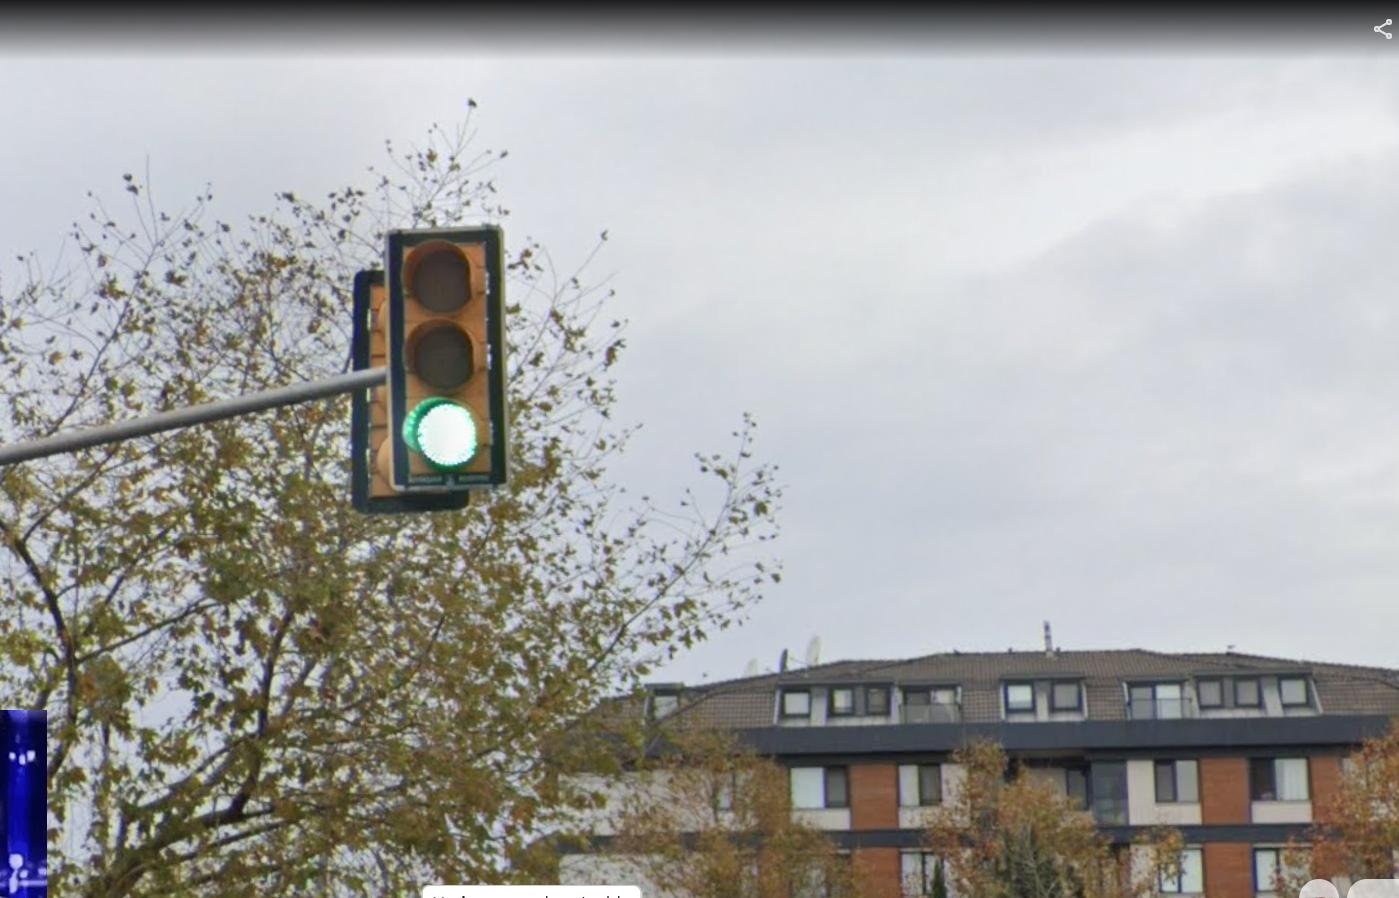greenlight: (382, 220, 499, 484)
